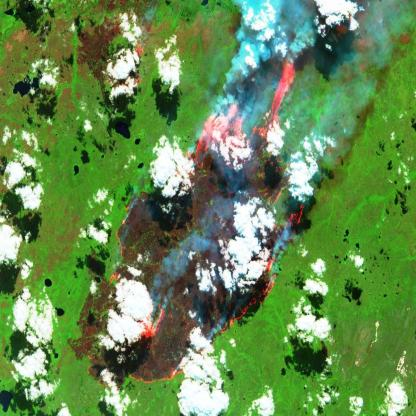fire: (70, 47, 304, 391)
